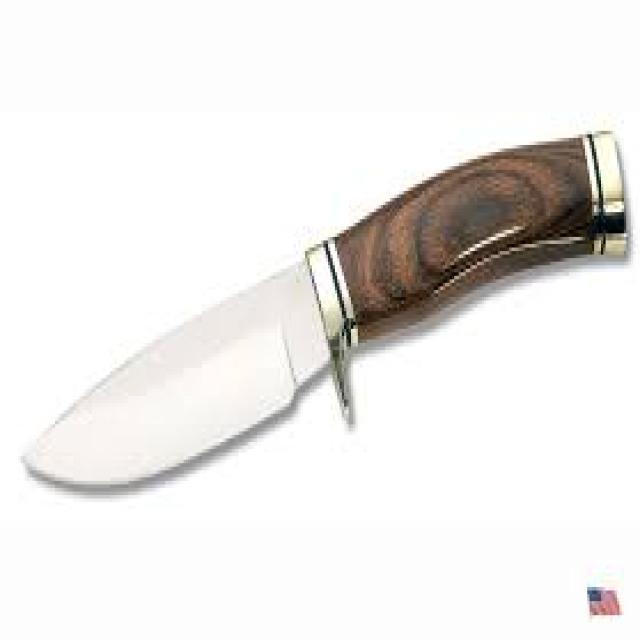knife: (12, 117, 639, 519)
